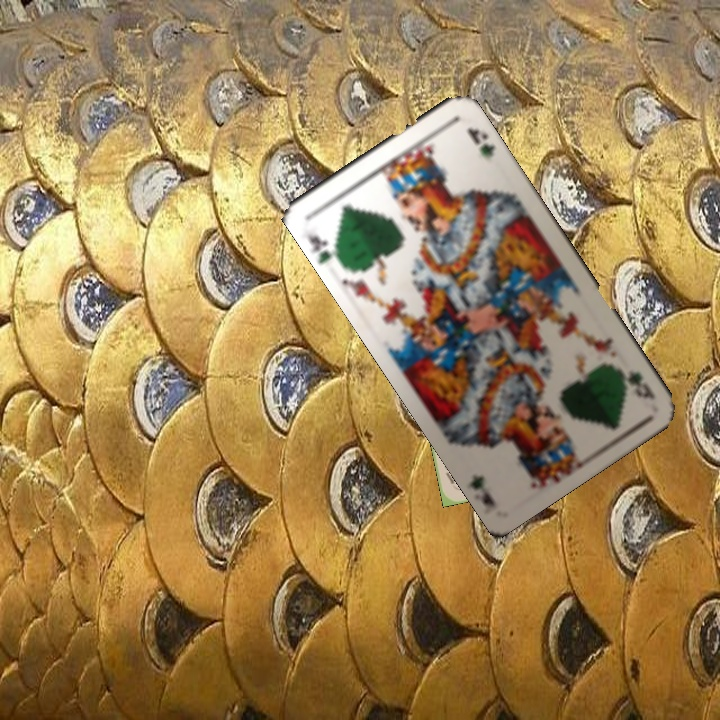GK: (612, 363, 658, 403), (303, 229, 344, 267)
